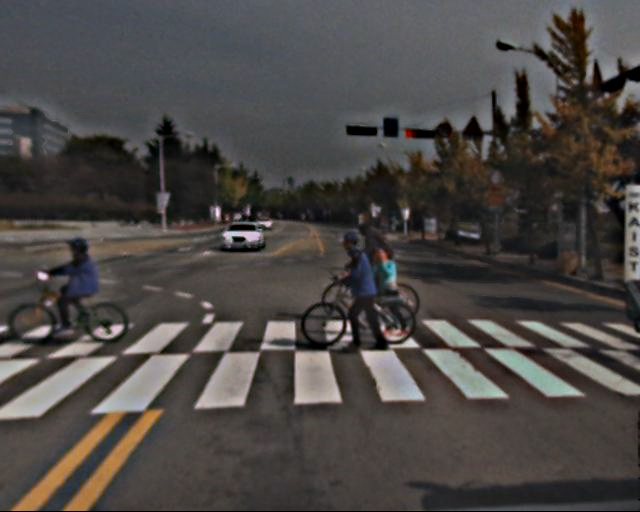person: (337, 231, 393, 351), (57, 234, 119, 336), (349, 220, 397, 325), (365, 238, 406, 337)
